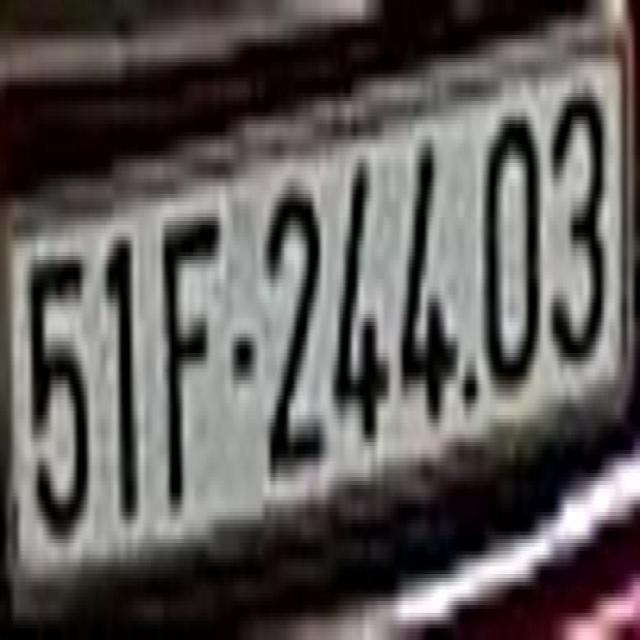0: (481, 105, 543, 415)
1: (99, 217, 144, 535)
2: (258, 178, 325, 485)
3: (546, 78, 604, 364)
4: (398, 120, 458, 427), (333, 147, 393, 450)
5: (29, 244, 90, 547)
F: (162, 202, 224, 524)
